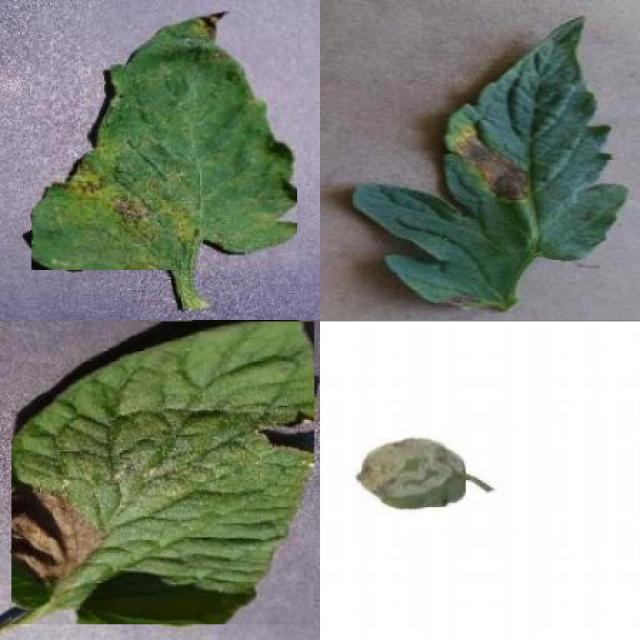Early Blight: (354, 10, 634, 314)
Late Blight: (12, 322, 314, 624)
Leaf Miner: (354, 436, 466, 508)
Septoria: (31, 10, 298, 270)
